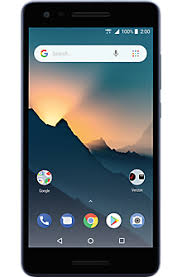nokia: (15, 1, 160, 277)
